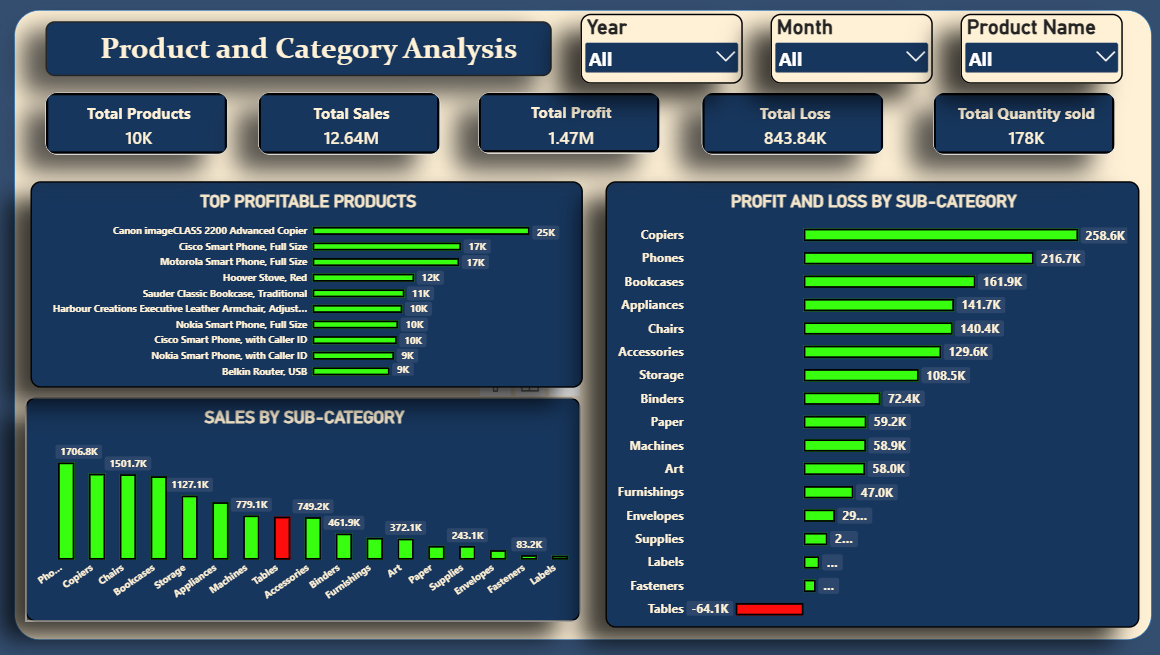

This screenshot's page, from the dashboard's own definition file:
{"tool":"powerbi","page":{"name":"Product and category analysis","canvas":[1920,1080],"ordinal":1},"visuals":[{"type":"shape","box":[26.8,16.5,1873.1,1037.4],"z":0},{"type":"textbox","box":[78.2,35,833.6,90.6],"z":1000},{"type":"cardVisual","fields":{"Data":["Global_Superstore2.Total Products"]},"box":[78.2,152.8,300.5,102.4],"z":1000,"group":"g2"},{"type":"clusteredBarChart","title":"TOP PROFITABLE PRODUCTS ","fields":{"Category":["Global_Superstore2.Product Name"],"Y":["Global_Superstore2.Total Profit"]},"box":[53.5,298.4,909.8,339.6],"z":2000,"group":"g1"},{"type":"columnChart","title":"SALES BY SUB-CATEGORY","fields":{"Category":["Global_Superstore2.Sub-Category"],"Y":["Global_Superstore2.Total Sales"]},"box":[45.3,654.5,913.9,368.4],"z":2000},{"type":"group","id":"g1","title":"Group 1","box":[53.5,297.5,1826.7,734.8],"z":3000},{"type":"group","id":"g2","title":"Group 2","box":[78.2,152.3,1761.9,100.9],"z":4000},{"type":"cardVisual","fields":{"Data":["Global_Superstore2.Total Sales"]},"box":[428.1,152.8,300.5,102.4],"z":4000,"group":"g2"},{"type":"slicer","title":"MONTHLY SALES TREND","fields":{"Values":["Date.Year"]},"box":[959.2,22.6,267.6,115.3],"z":5000},{"type":"cardVisual","fields":{"Data":["Global_Superstore2.Total Profit"]},"box":[789.9,152.3,300.5,100.8],"z":5000,"group":"g2"},{"type":"slicer","title":"MONTHLY SALES TREND","fields":{"Values":["Date.Month"]},"box":[1272,22.6,267.6,115.3],"z":6000},{"type":"cardVisual","fields":{"Data":["Global_Superstore2.Total Loss"]},"box":[1158.8,152.8,300.5,102.4],"z":6000,"group":"g2"},{"type":"slicer","title":"MONTHLY SALES TREND","fields":{"Values":["Global_Superstore2.Product Name"]},"box":[1584.9,22.6,267.6,115.3],"z":7000},{"type":"cardVisual","fields":{"Data":["Global_Superstore2.Total Quantity sold"]},"box":[1539.6,152.8,300.5,102.4],"z":7000,"group":"g2"},{"type":"clusteredBarChart","title":"PROFIT AND LOSS BY SUB-CATEGORY","fields":{"Category":["Global_Superstore2.Sub-Category"],"Y":["Global_Superstore2.Total Profit"]},"box":[1001.3,297.5,878.9,734.8],"z":7001,"group":"g1"}]}

Visuals, with their boxes in screenshot pixels (x1, y1, x2, y2), scaled from the page's 1920x1080 canvas onto the 1160x655 screenshot:
shape: {"left": 16, "top": 10, "right": 1148, "bottom": 639}
textbox: {"left": 47, "top": 21, "right": 551, "bottom": 76}
cardVisual - Global_Superstore2.Total Products: {"left": 47, "top": 93, "right": 229, "bottom": 155}
"TOP PROFITABLE PRODUCTS " clusteredBarChart: {"left": 32, "top": 181, "right": 582, "bottom": 387}
"SALES BY SUB-CATEGORY" columnChart: {"left": 27, "top": 397, "right": 580, "bottom": 620}
"Group 1" group: {"left": 32, "top": 180, "right": 1136, "bottom": 626}
"Group 2" group: {"left": 47, "top": 92, "right": 1112, "bottom": 154}
cardVisual - Global_Superstore2.Total Sales: {"left": 259, "top": 93, "right": 440, "bottom": 155}
"MONTHLY SALES TREND" slicer: {"left": 580, "top": 14, "right": 741, "bottom": 84}
cardVisual - Global_Superstore2.Total Profit: {"left": 477, "top": 92, "right": 659, "bottom": 154}
"MONTHLY SALES TREND" slicer: {"left": 768, "top": 14, "right": 930, "bottom": 84}
cardVisual - Global_Superstore2.Total Loss: {"left": 700, "top": 93, "right": 882, "bottom": 155}
"MONTHLY SALES TREND" slicer: {"left": 958, "top": 14, "right": 1119, "bottom": 84}
cardVisual - Global_Superstore2.Total Quantity sold: {"left": 930, "top": 93, "right": 1112, "bottom": 155}
"PROFIT AND LOSS BY SUB-CATEGORY" clusteredBarChart: {"left": 605, "top": 180, "right": 1136, "bottom": 626}
